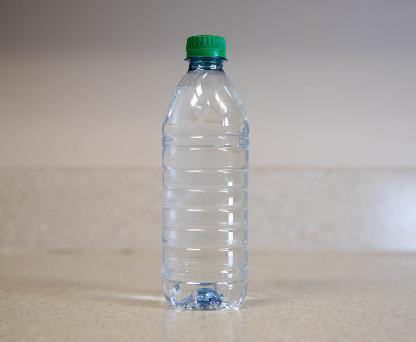Plastic Bottle: (160, 34, 250, 310)
